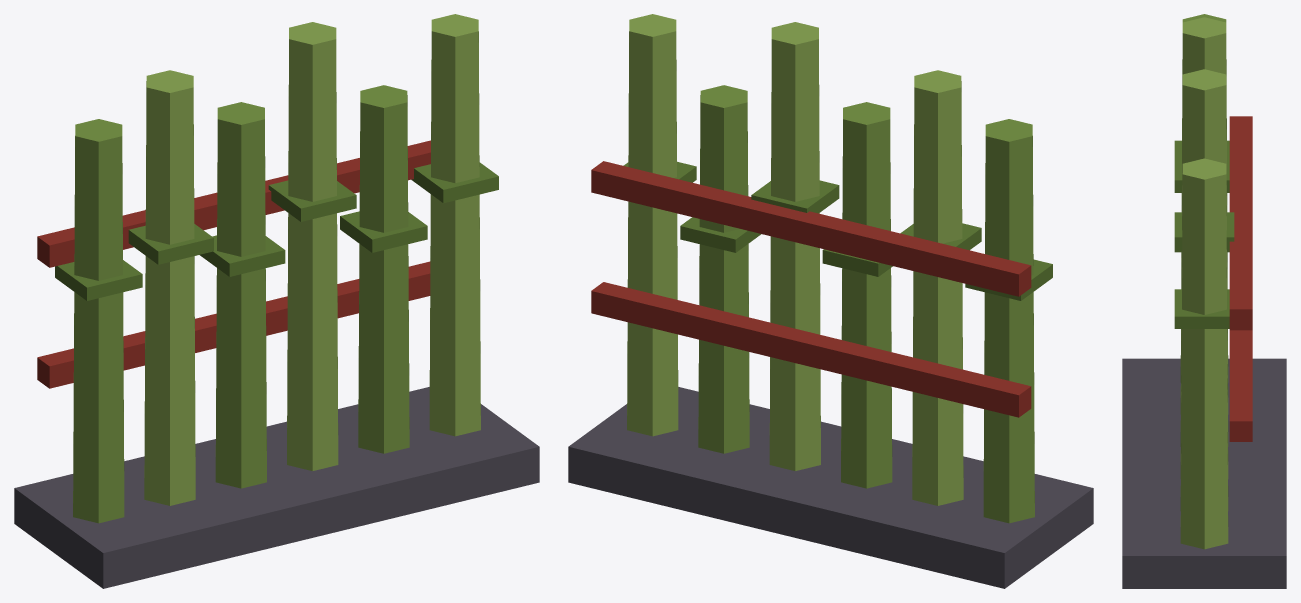
File: wall_t1_seg.glb
The picture shows the model from 3 angles, left to right: view 1: azimuth 30°, elevation 25°; view 2: azimuth 150°, elevation 25°; view 3: azimuth 270°, elevation 25°; orthographic projection. The views are drawn at different scales.
Visible parts, largest first — view 1: body; view 2: body; view 3: body.
Part boxes in pixels (x1,y1,x2,y2): body: [14, 14, 539, 588]; body: [568, 14, 1093, 588]; body: [1122, 14, 1286, 588].
Bounding box in the file's own units: 1.02 × 1.03 × 0.36.
